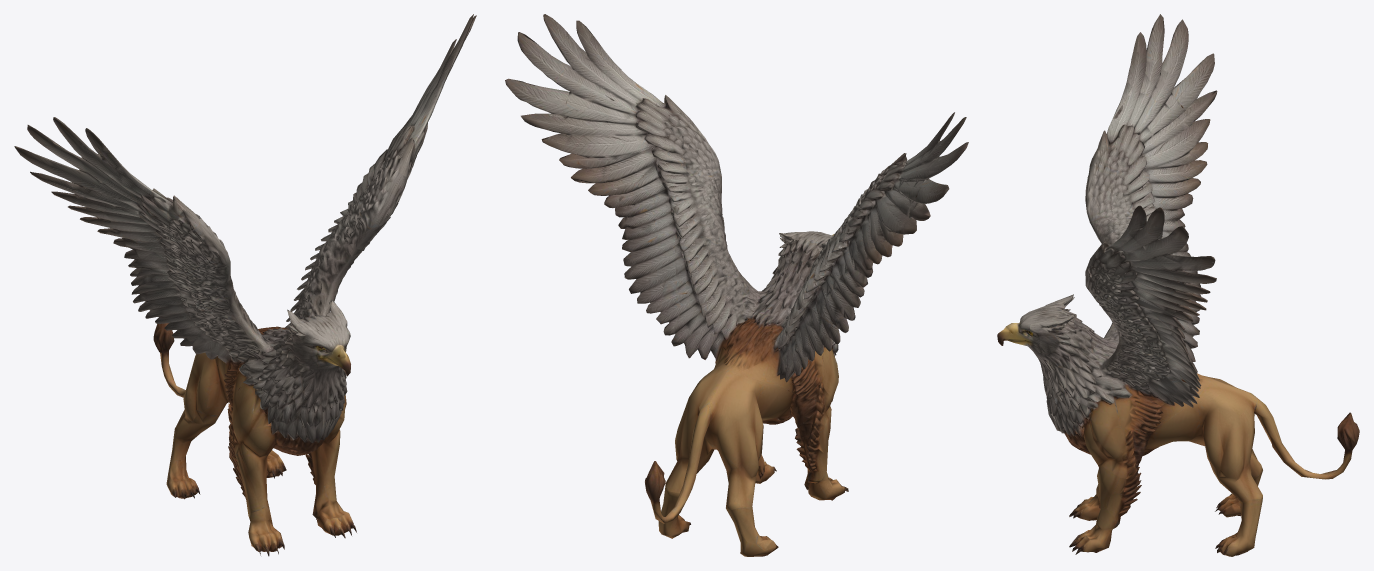
File: hippogriff.glb
3 renders of one model, left to right at view 1: azimuth 30°, elevation 25°; view 2: azimuth 150°, elevation 25°; view 3: azimuth 270°, elevation 25°, orthographic. The views are drawn at different scales.
Bounding box in the file's own units: 1.9 × 1.81 × 1.4.
1 material, 1 textured.
